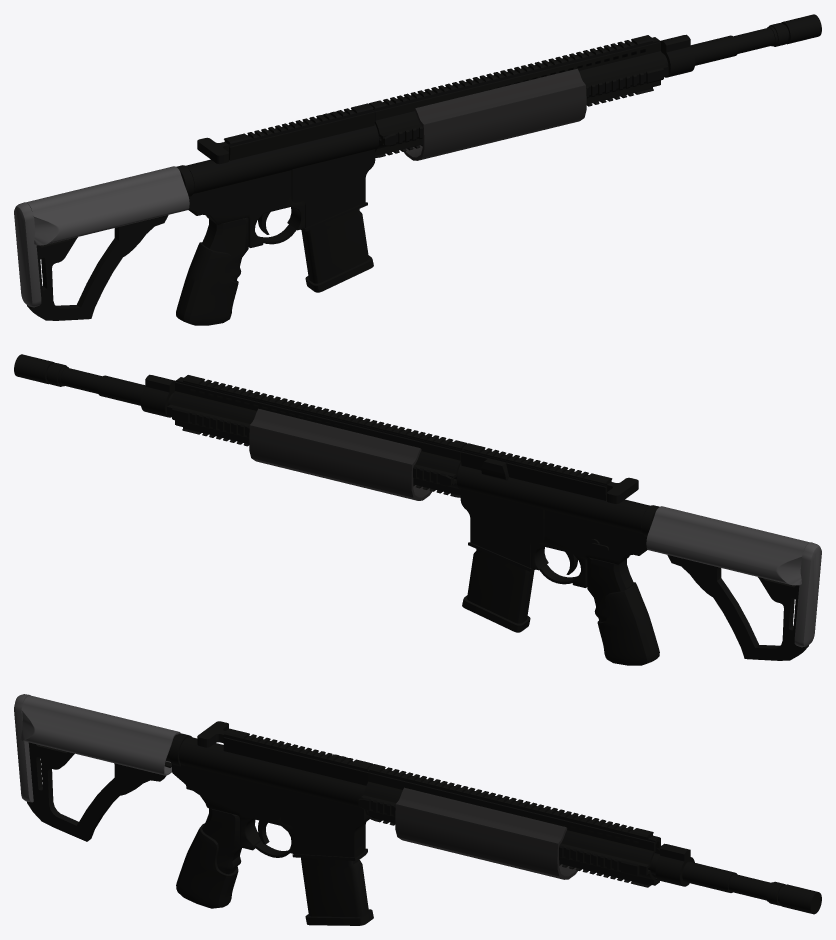
3 views of the same model, one above another, from view 1: azimuth 30°, elevation 25°; view 2: azimuth 150°, elevation 25°; view 3: azimuth 330°, elevation 25° (orthographic).
Parts seen in each view (by area): view 1: MK12; view 2: MK12; view 3: MK12.
Boxes of the visible parts, box(x1,y1,x2,y2) form: MK12: box(14, 14, 821, 325); MK12: box(14, 354, 821, 665); MK12: box(14, 694, 821, 925).
Size of the model in its own units: 0.8268 by 0.1749 by 0.0525.
